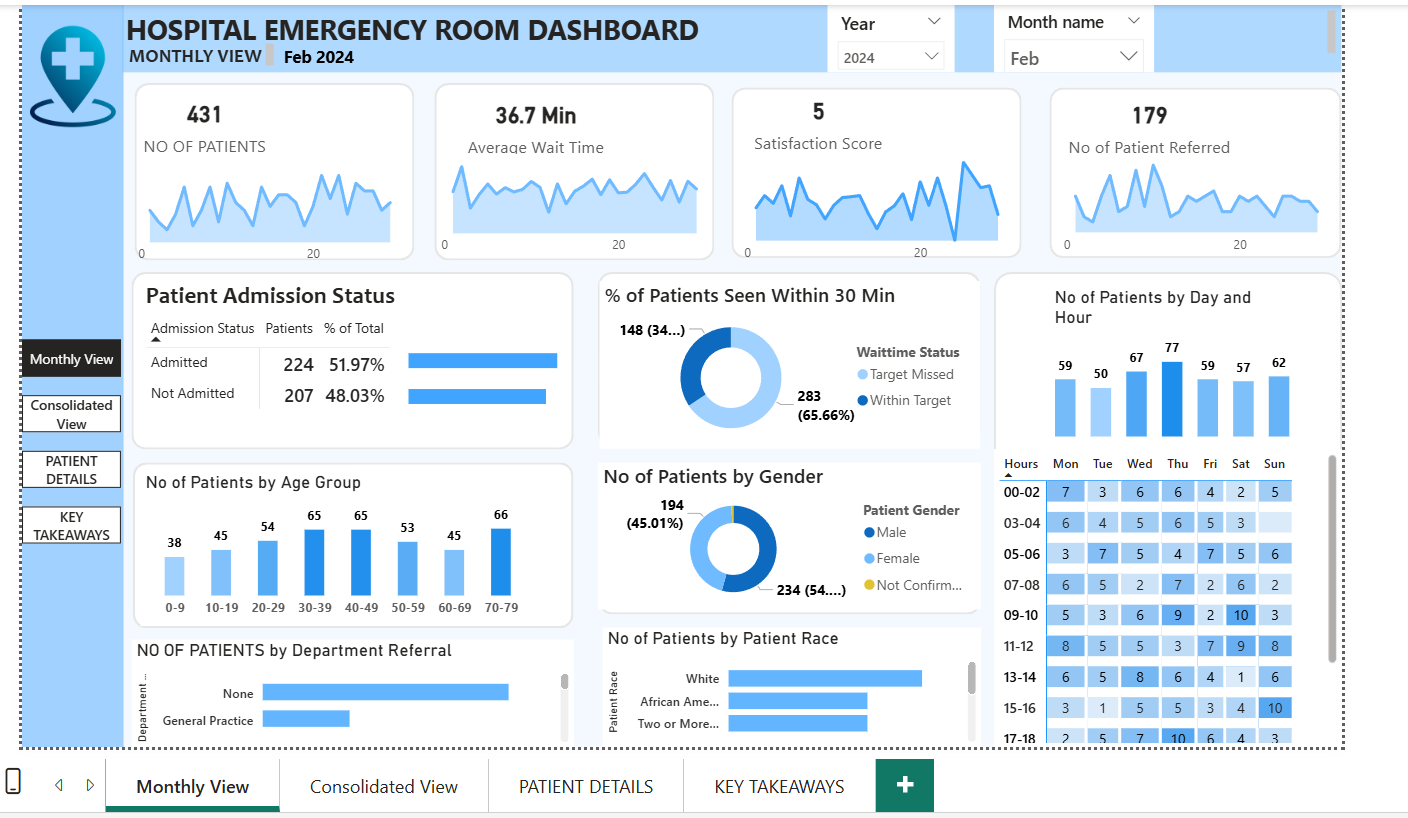

The page's visual inventory and layout, read from the dashboard file:
{"tool":"powerbi","page":{"name":"Monthly View","canvas":[1280,720],"ordinal":0},"visuals":[{"type":"shape","box":[0,0,98.6,720],"z":0},{"type":"shape","box":[109.3,76.2,271.7,172.3],"z":1000},{"type":"shape","box":[97.7,0,1182.8,65.5],"z":2000},{"type":"textbox","box":[96.6,0,1183.6,64.7],"z":3000},{"type":"textbox","box":[98.8,32.5,150,32.5],"z":4000},{"type":"card","fields":{"Values":["Hospital ER_Data.NO OF PATIENTS"]},"box":[106.7,85,141.7,63.3],"z":5000},{"type":"slicer","fields":{"Values":["Date Table.Year"]},"box":[781.7,0,123.3,65],"z":6000},{"type":"slicer","fields":{"Values":["Date Table.Month name"]},"box":[943.3,0,155,65],"z":7000},{"type":"areaChart","fields":{"Y":["Hospital ER_Data.NO OF PATIENTS"],"Category":["Date Table.Date.Variation.Date Hierarchy.Day"]},"box":[101,139.1,279.9,119.3],"z":8000},{"type":"textbox","box":[248.5,33.1,97.7,33.1],"z":9000},{"type":"shape","box":[400.9,76.2,271.7,172.3],"z":10000},{"type":"shape","box":[997.2,79.5,283.3,165.6],"z":11000},{"type":"shape","box":[689.1,79.5,281.6,165.6],"z":12000},{"type":"card","fields":{"Values":["Hospital ER_Data.Satisfaction Score"]},"box":[701.7,80,141.7,65],"z":13000},{"type":"card","fields":{"Values":["Hospital ER_Data.No of Patient Referred"]},"box":[996.7,85,193.3,65],"z":14000},{"type":"card","fields":{"Values":["Hospital ER_Data.Average Wait Time"]},"box":[401.7,85,193.3,65],"z":15000},{"type":"shape","box":[106,258.4,429,172.3],"z":16000},{"type":"areaChart","fields":{"Y":["Avg(Hospital ER_Data.Patient Waittime)"],"Category":["Date Table.Date.Variation.Date Hierarchy.Day"]},"box":[394.2,130.9,283.3,119.3],"z":17000},{"type":"areaChart","fields":{"Y":["Avg(Hospital ER_Data.Patient Satisfaction Score)"],"Category":["Date Table.Date.Variation.Date Hierarchy.Day"]},"box":[688.3,138.3,281.7,120],"z":18000},{"type":"areaChart","fields":{"Category":["Date Table.Date.Variation.Date Hierarchy.Day"],"Y":["Hospital ER_Data.No of Patient Referred"]},"box":[998.9,130.9,281.6,119.3],"z":19000},{"type":"pivotTable","title":"Patient Admission Status","fields":{"Rows":["Hospital ER_Data.Admission Status"],"Values":["Hospital ER_Data.NO OF PATIENTS1","Hospital ER_Data.NO OF PATIENTS"]},"box":[115,268.3,266.7,143.3],"z":20000},{"type":"barChart","fields":{"Category":["Hospital ER_Data.Admission Status"],"Y":["Hospital ER_Data.NO OF PATIENTS"]},"box":[370,306.7,203.3,105],"z":21000},{"type":"shape","box":[107.7,443.9,427.4,160.7],"z":22000},{"type":"shape","box":[558.2,258.4,371.1,169],"z":23000},{"type":"clusteredColumnChart","title":"No of Patients by Age Group","fields":{"Category":["Hospital ER_Data.Age Group"],"Y":["Hospital ER_Data.NO OF PATIENTS"]},"box":[115,453.3,383.3,150],"z":24000},{"type":"clusteredBarChart","fields":{"Category":["Hospital ER_Data.Patient Race"],"Y":["Hospital ER_Data.NO OF PATIENTS"]},"box":[562.9,604.3,367.1,115.7],"z":25000},{"type":"shape","box":[559.9,443.9,369.4,147.4],"z":26000},{"type":"donutChart","title":"% of Patients Seen Within 30 Min","fields":{"Category":["Hospital ER_Data.Waittime Status"],"Y":["Hospital ER_Data.NO OF PATIENTS"]},"box":[559.9,268.3,369.4,162.3],"z":27000},{"type":"donutChart","title":"No of Patients by Gender","fields":{"Y":["Hospital ER_Data.NO OF PATIENTS"],"Category":["Hospital ER_Data.Patient Gender"]},"box":[558.2,443.9,371.1,142.5],"z":28000},{"type":"clusteredBarChart","fields":{"Category":["Hospital ER_Data.Department Referral"],"Y":["Hospital ER_Data.NO OF PATIENTS"]},"box":[106,616.2,429,104.4],"z":29000},{"type":"shape","box":[942.5,258.4,337.9,462.2],"z":30000},{"type":"pivotTable","fields":{"Rows":["Hospital ER_Data.Waittime Interval"],"Columns":["Date Table.Day Nmae"],"Values":["Hospital ER_Data.NO OF PATIENTS"]},"box":[942.5,430.7,337.9,289.9],"z":31000},{"type":"columnChart","title":"No of Patients by Day and Hour","fields":{"Category":["Date Table.Day Nmae"],"Y":["Hospital ER_Data.NO OF PATIENTS"]},"box":[997.2,273.3,238.5,150.7],"z":32000},{"type":"image","box":[0,0,98.6,138.6],"z":33000},{"type":"pageNavigator","box":[0,325,96.7,200],"z":33001}]}

Visuals, with their boxes on the page's 1280x720 design canvas (x1, y1, x2, y2). These are canvas units, not pixel positions in the 1408x818 screenshot, which may show the page scaled, cropped or inside an application window:
shape: x1=0, y1=0, x2=99, y2=720
shape: x1=109, y1=76, x2=381, y2=248
shape: x1=98, y1=0, x2=1280, y2=66
textbox: x1=97, y1=0, x2=1280, y2=65
textbox: x1=99, y1=32, x2=249, y2=65
card - Hospital ER_Data.NO OF PATIENTS: x1=107, y1=85, x2=248, y2=148
slicer - Date Table.Year: x1=782, y1=0, x2=905, y2=65
slicer - Date Table.Month name: x1=943, y1=0, x2=1098, y2=65
areaChart - Hospital ER_Data.NO OF PATIENTS x Date Table.Date.Variation.Date Hierarchy.Day: x1=101, y1=139, x2=381, y2=258
textbox: x1=248, y1=33, x2=346, y2=66
shape: x1=401, y1=76, x2=673, y2=248
shape: x1=997, y1=80, x2=1280, y2=245
shape: x1=689, y1=80, x2=971, y2=245
card - Hospital ER_Data.Satisfaction Score: x1=702, y1=80, x2=843, y2=145
card - Hospital ER_Data.No of Patient Referred: x1=997, y1=85, x2=1190, y2=150
card - Hospital ER_Data.Average Wait Time: x1=402, y1=85, x2=595, y2=150
shape: x1=106, y1=258, x2=535, y2=431
areaChart - Avg(Hospital ER_Data.Patient Waittime) x Date Table.Date.Variation.Date Hierarchy.Day: x1=394, y1=131, x2=678, y2=250
areaChart - Avg(Hospital ER_Data.Patient Satisfaction Score) x Date Table.Date.Variation.Date Hierarchy.Day: x1=688, y1=138, x2=970, y2=258
areaChart - Date Table.Date.Variation.Date Hierarchy.Day x Hospital ER_Data.No of Patient Referred: x1=999, y1=131, x2=1280, y2=250
"Patient Admission Status" pivotTable: x1=115, y1=268, x2=382, y2=412
barChart - Hospital ER_Data.Admission Status x Hospital ER_Data.NO OF PATIENTS: x1=370, y1=307, x2=573, y2=412
shape: x1=108, y1=444, x2=535, y2=605
shape: x1=558, y1=258, x2=929, y2=427
"No of Patients by Age Group" clusteredColumnChart: x1=115, y1=453, x2=498, y2=603
clusteredBarChart - Hospital ER_Data.Patient Race x Hospital ER_Data.NO OF PATIENTS: x1=563, y1=604, x2=930, y2=720
shape: x1=560, y1=444, x2=929, y2=591
"% of Patients Seen Within 30 Min" donutChart: x1=560, y1=268, x2=929, y2=431
"No of Patients by Gender" donutChart: x1=558, y1=444, x2=929, y2=586
clusteredBarChart - Hospital ER_Data.Department Referral x Hospital ER_Data.NO OF PATIENTS: x1=106, y1=616, x2=535, y2=721
shape: x1=942, y1=258, x2=1280, y2=721
pivotTable - Hospital ER_Data.Waittime Interval x Date Table.Day Nmae: x1=942, y1=431, x2=1280, y2=721
"No of Patients by Day and Hour" columnChart: x1=997, y1=273, x2=1236, y2=424
image: x1=0, y1=0, x2=99, y2=139
pageNavigator: x1=0, y1=325, x2=97, y2=525
